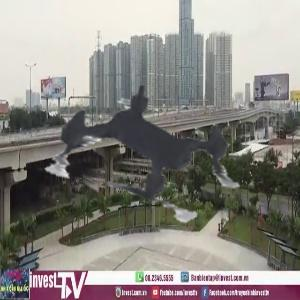drone: (7, 3, 299, 295)
